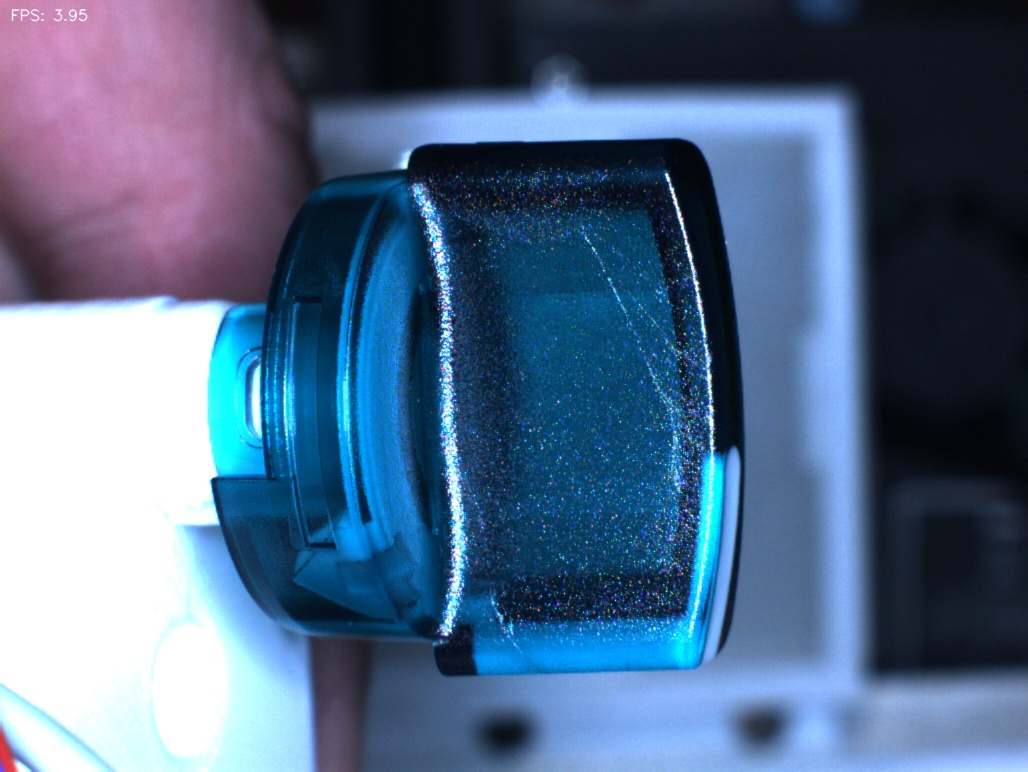Givrage: (580, 227, 699, 420)
